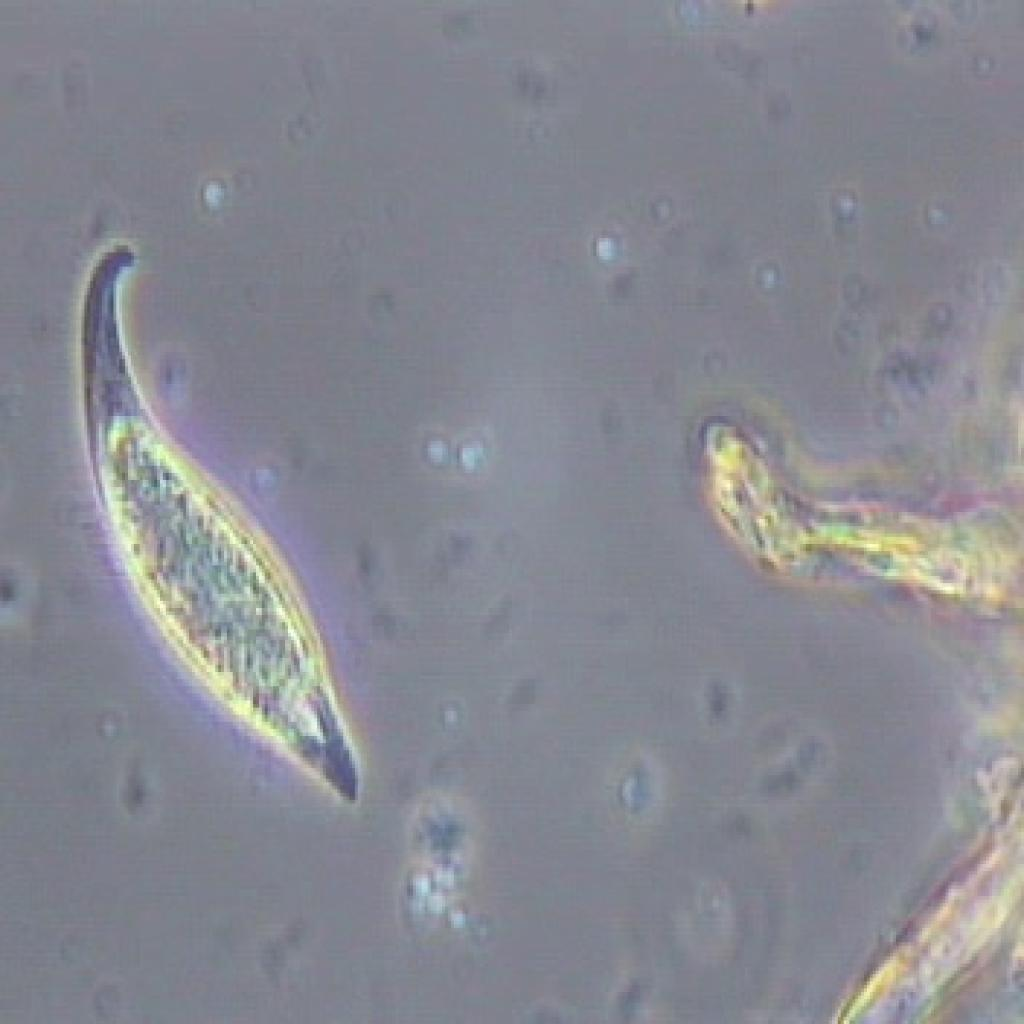Pristina: (31, 215, 391, 841)
